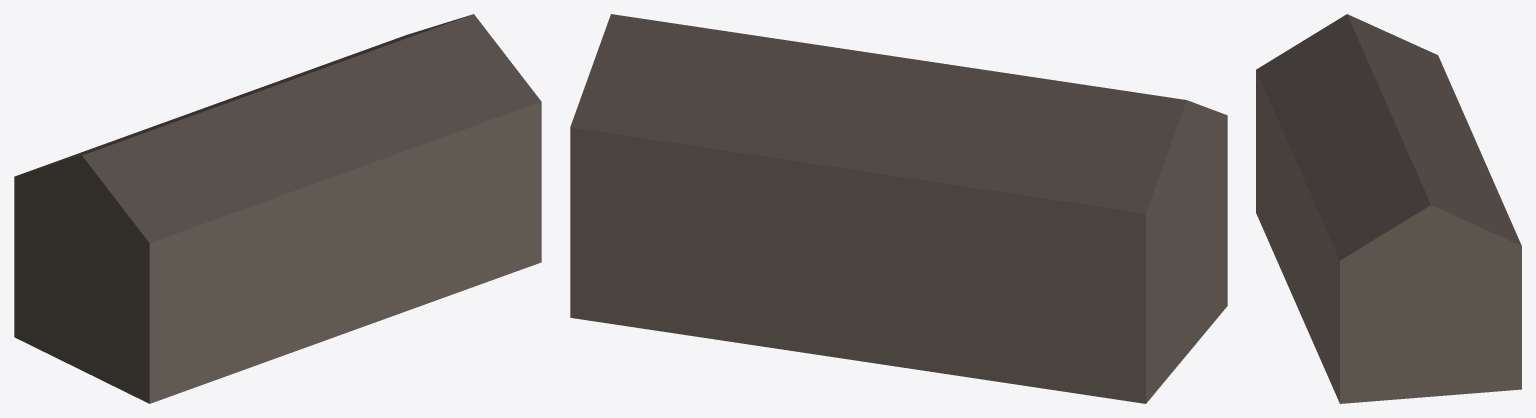
The picture shows the model from 3 angles, left to right: view 1: azimuth 30°, elevation 25°; view 2: azimuth 150°, elevation 25°; view 3: azimuth 270°, elevation 25°; orthographic projection. The views are drawn at different scales.
Parts seen in each view (by area): view 1: HP-w408450734; view 2: HP-w408450734; view 3: HP-w408450734.
Part boxes in pixels (x1=…): HP-w408450734: x1=14, y1=14, x2=541, y2=403; HP-w408450734: x1=570, y1=14, x2=1227, y2=403; HP-w408450734: x1=1256, y1=14, x2=1521, y2=403.
Bounding box in the file's own units: 27.67 × 12.04 × 15.13.
